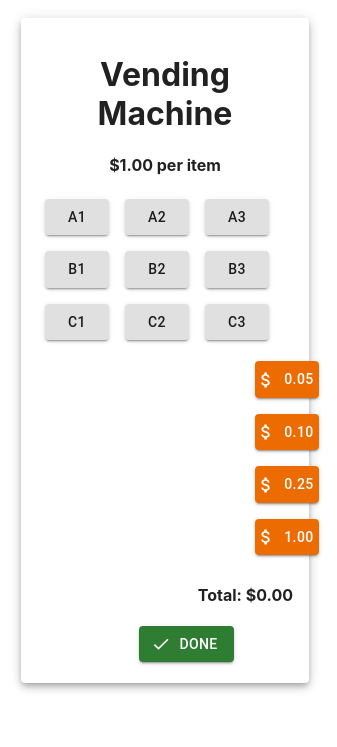
Test: vending machine component › should reset message on button click
Click the button named "Mountain Dew".
click(77, 217)  # box left=45, top=199, right=109, bottom=235
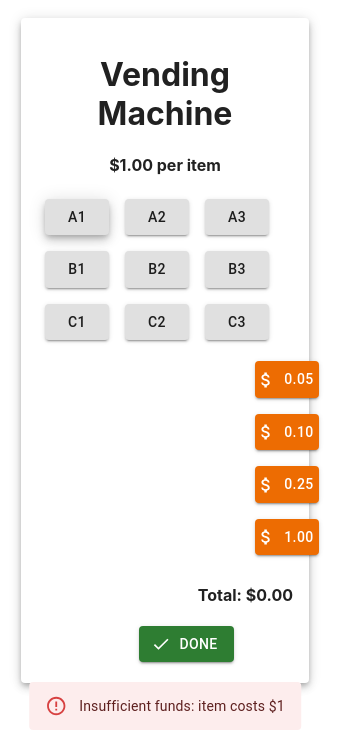
Expected: the text "Insufficient funds: item costs $1" is shown, left=79, top=698, right=285, bottom=714
Click the button labelled "Done".
click(187, 644)  # box left=139, top=626, right=234, bottom=662
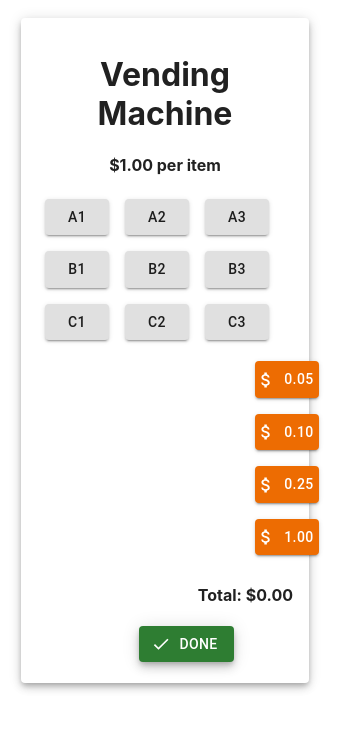
Expected: the text "Insufficient funds: item costs $1" is gone
